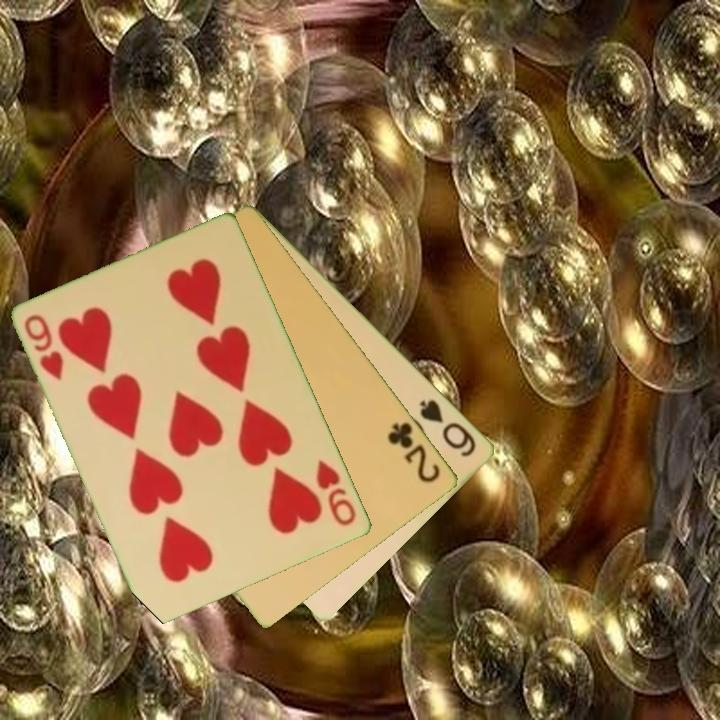2c: (384, 418, 444, 486)
6s: (416, 396, 480, 460)
9h: (313, 456, 360, 529), (21, 311, 67, 383)
